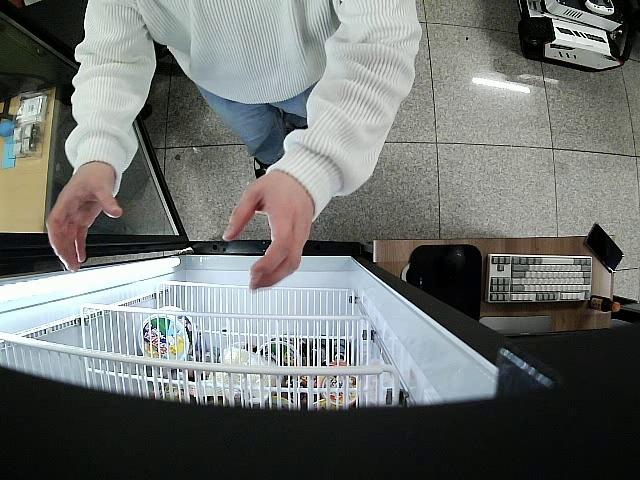00_hand: (223, 178, 312, 292), (46, 176, 122, 273)
